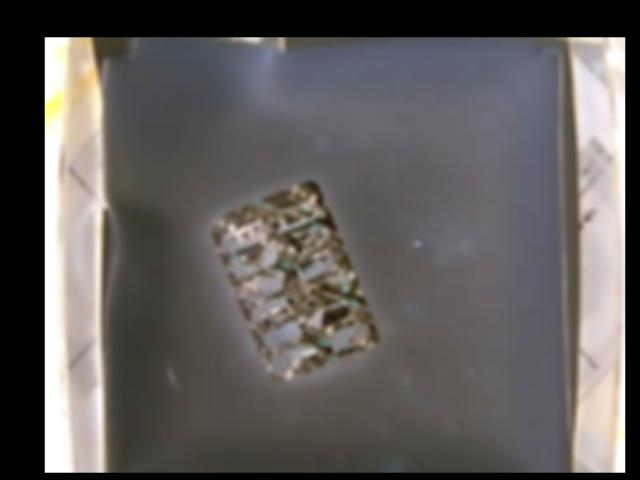Medicine: (211, 179, 380, 381)
